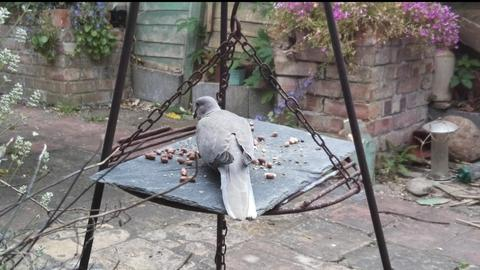collared dove: (193, 96, 257, 221)
